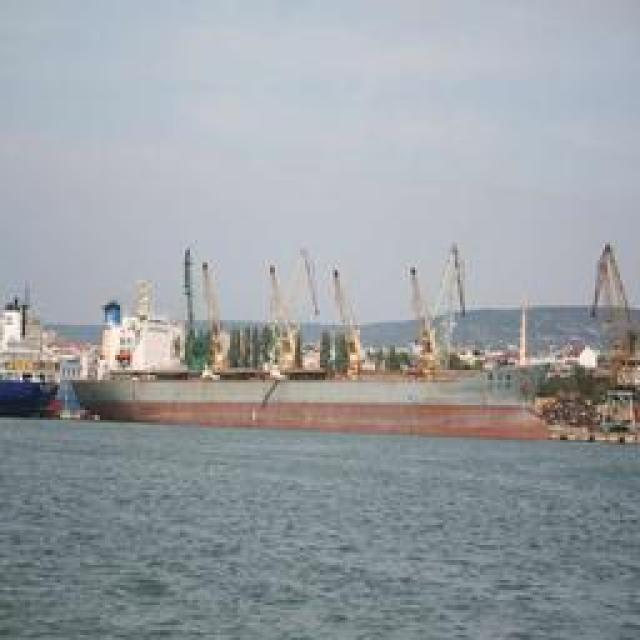CIV_Ship: (60, 340, 575, 422)
